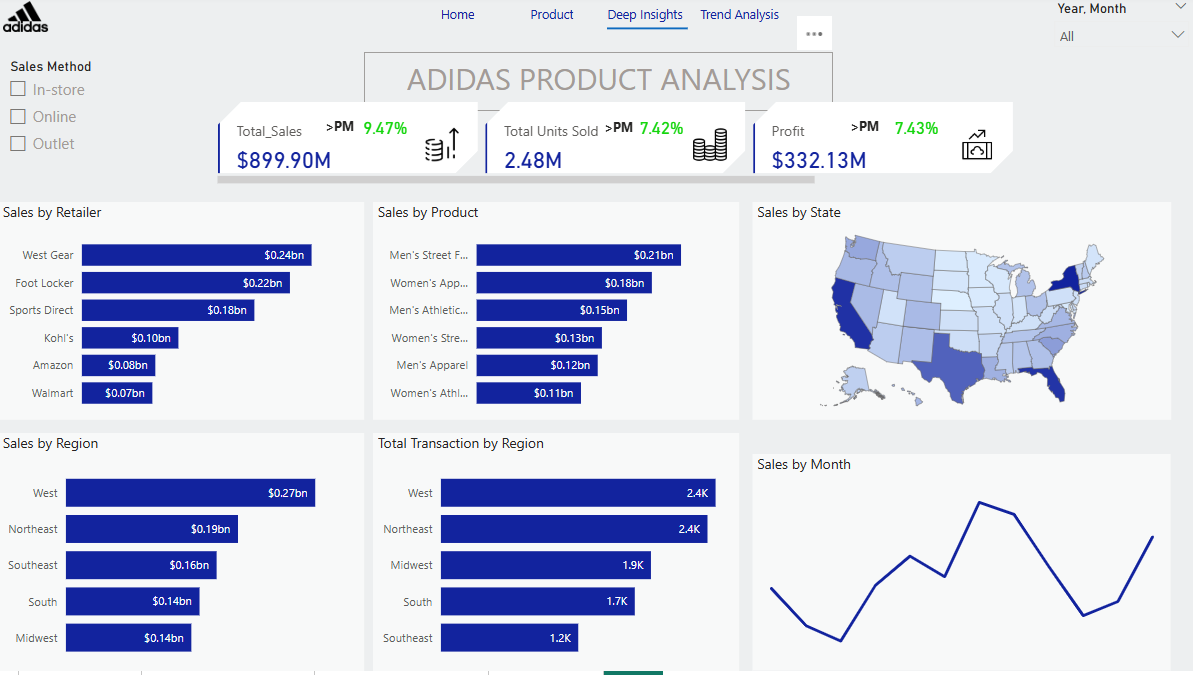

What the dashboard file says about the page in this screenshot:
{"tool":"powerbi","page":{"name":"Deep Insights","canvas":[1280,720],"ordinal":2},"visuals":[{"type":"image","box":[0,0,58.6,46.6],"z":0},{"type":"actionButton","box":[440,0,100,40],"z":0,"group":"g1"},{"type":"actionButton","box":[540,0,100,40],"z":1000,"group":"g1"},{"type":"barChart","title":"Sales by Retailer","fields":{"Category":["Data Sales Adidas.Retailer"],"Y":["Data Sales Adidas.Total_Sales"]},"box":[0,220,390,232],"z":1000},{"type":"actionButton","box":[640,0,100,40],"z":2000,"group":"g1"},{"type":"slicer","fields":{"Values":["Data Sales Adidas.Sales Method"]},"box":[0,62,144,128],"z":2000},{"type":"actionButton","box":[740,0,100,40],"z":3000,"group":"g1"},{"type":"card","fields":{"Values":["Data Sales Adidas.SalesMOM"]},"box":[354.4,107.3,93.2,56.7],"z":3000},{"type":"slicer","fields":{"Values":["Calendar.Year","Calendar.Month"]},"box":[1115.9,0,163.6,60.2],"z":4000},{"type":"shape","box":[650,26,86,20],"z":4000,"group":"g1"},{"type":"group","id":"g1","title":"Group 2","box":[440,0,400,46],"z":5000},{"type":"textbox","box":[390,60,500,63.3],"z":6000},{"type":"cardVisual","fields":{"Data":["Data Sales Adidas.Total_Sales","Data Sales Adidas.Total Units Sold","Data Sales Adidas.Profit","Data Sales Adidas.Trans Count"]},"box":[228.5,108.6,859.5,99.1],"z":7000},{"type":"barChart","title":"Sales by Region","fields":{"Category":["Location.Region"],"Y":["Data Sales Adidas.Total_Sales"]},"box":[0,466,390,254],"z":8000},{"type":"barChart","title":"Sales by Product","fields":{"Category":["Data Sales Adidas.Product"],"Y":["Data Sales Adidas.Total_Sales"]},"box":[400,220,390,232],"z":9000},{"type":"barChart","title":"Total Transaction by Region","fields":{"Y":["Data Sales Adidas.Trans Count"],"Category":["Location.Region"]},"box":[400,466,390,254],"z":10000},{"type":"shapeMap","title":"Sales by State","fields":{"Value":["Data Sales Adidas.Total_Sales"],"Category":["Location.State"]},"box":[804,220,446,232],"z":11000},{"type":"areaChart","title":"Sales by Month","fields":{"Y":["Data Sales Adidas.Total_Sales"],"Category":["Calendar.Date.Variation.Date Hierarchy.Month"]},"box":[804.1,488.1,445.6,230.9],"z":12000},{"type":"card","fields":{"Values":["Data Sales Adidas.UnitSoldMOM"]},"box":[671,113.4,70.3,55.9],"z":13000},{"type":"card","fields":{"Values":["Data Sales Adidas.TransCountMOM"]},"box":[944.2,115,67.1,54.3],"z":14000},{"type":"card","fields":{"Values":["Data Sales Adidas.SalesMOM"]},"box":[374.7,117.5,72.9,46.6],"z":15000},{"type":"textbox","box":[343.5,124.6,55.9,47.9],"z":16000},{"type":"textbox","box":[640.7,126.2,52.7,39.9],"z":17000},{"type":"textbox","box":[902.7,124.6,52.7,46.3],"z":18000}]}

Visuals, with their boxes on the page's 1280x720 design canvas (x1, y1, x2, y2). These are canvas units, not pixel positions in the 1193x675 screenshot, which may show the page scaled, cropped or inside an application window:
image: box=[0, 0, 59, 47]
actionButton: box=[440, 0, 540, 40]
actionButton: box=[540, 0, 640, 40]
"Sales by Retailer" barChart: box=[0, 220, 390, 452]
actionButton: box=[640, 0, 740, 40]
slicer - Data Sales Adidas.Sales Method: box=[0, 62, 144, 190]
actionButton: box=[740, 0, 840, 40]
card - Data Sales Adidas.SalesMOM: box=[354, 107, 448, 164]
slicer - Calendar.Year x Calendar.Month: box=[1116, 0, 1280, 60]
shape: box=[650, 26, 736, 46]
"Group 2" group: box=[440, 0, 840, 46]
textbox: box=[390, 60, 890, 123]
cardVisual - Data Sales Adidas.Total_Sales x Data Sales Adidas.Total Units Sold: box=[228, 109, 1088, 208]
"Sales by Region" barChart: box=[0, 466, 390, 720]
"Sales by Product" barChart: box=[400, 220, 790, 452]
"Total Transaction by Region" barChart: box=[400, 466, 790, 720]
"Sales by State" shapeMap: box=[804, 220, 1250, 452]
"Sales by Month" areaChart: box=[804, 488, 1250, 719]
card - Data Sales Adidas.UnitSoldMOM: box=[671, 113, 741, 169]
card - Data Sales Adidas.TransCountMOM: box=[944, 115, 1011, 169]
card - Data Sales Adidas.SalesMOM: box=[375, 118, 448, 164]
textbox: box=[344, 125, 399, 172]
textbox: box=[641, 126, 693, 166]
textbox: box=[903, 125, 955, 171]
